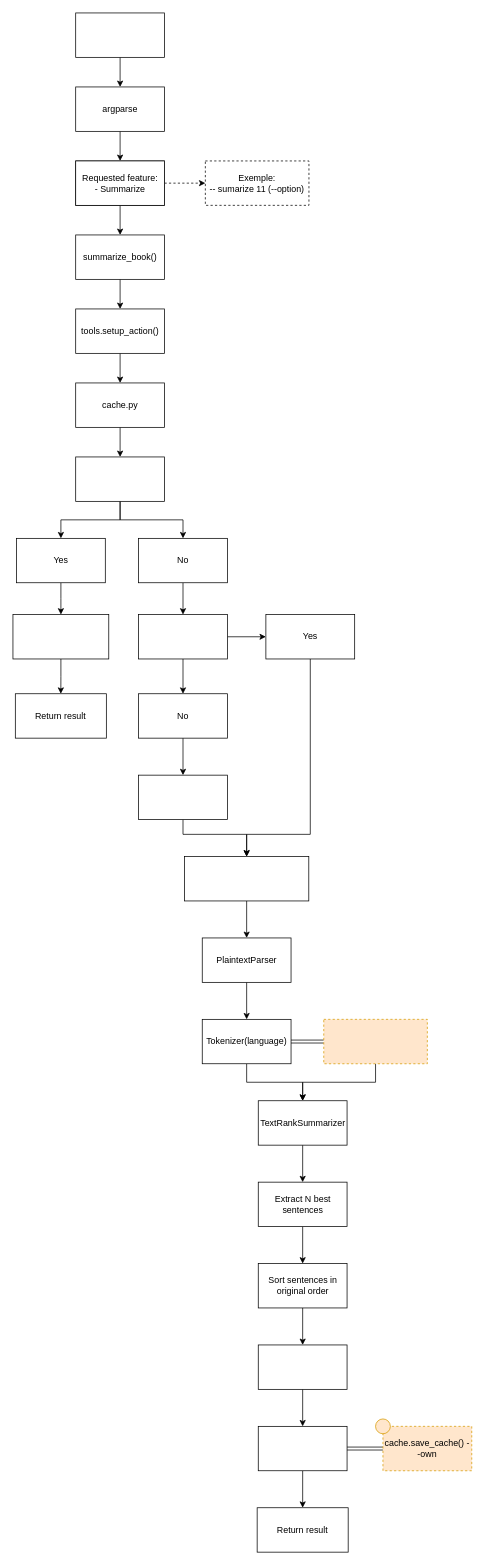
This 485x1565 diagram has some shape labels left out. Each missing label, with the centre of its shape:
"Book in cache?" belongs at (182,636).
"bookworm.py" belongs at (120,34).
"Cache exists?" belongs at (120,478).
"cache.charge_cache()" belongs at (60,636).
"cache.save_cache()" belongs at (302,1448).
"download_book()" belongs at (182,797).
"Exemple: -- sumarize 11 --own" belongs at (375,1041).
"header_and_footer_remover()" belongs at (246,878).
"Join sentences with spacing." belongs at (302,1366).
